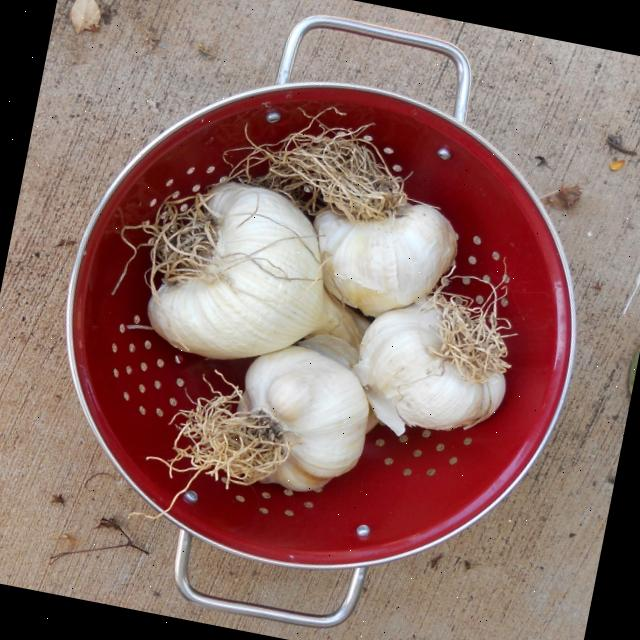garlic: (148, 182, 360, 359), (353, 274, 511, 435), (353, 299, 505, 433), (239, 345, 368, 491), (314, 204, 456, 316)
